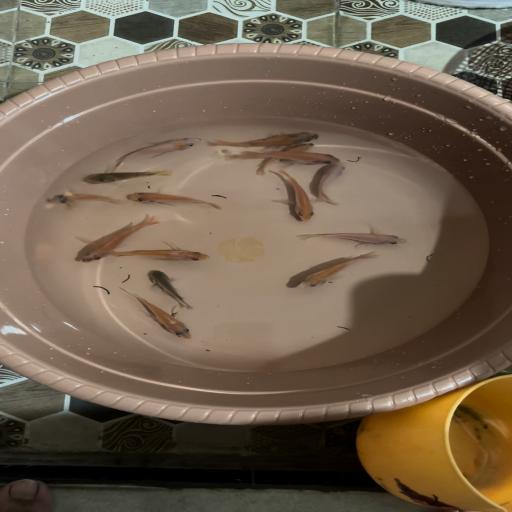nila: (74, 212, 168, 266), (289, 250, 391, 293), (112, 294, 206, 340), (131, 267, 210, 309), (112, 134, 206, 169), (209, 124, 318, 150), (216, 147, 339, 170), (102, 245, 217, 269), (294, 226, 412, 248), (71, 162, 178, 186), (122, 188, 232, 211), (40, 186, 124, 216), (272, 172, 318, 225), (310, 163, 350, 213), (258, 142, 314, 172)
